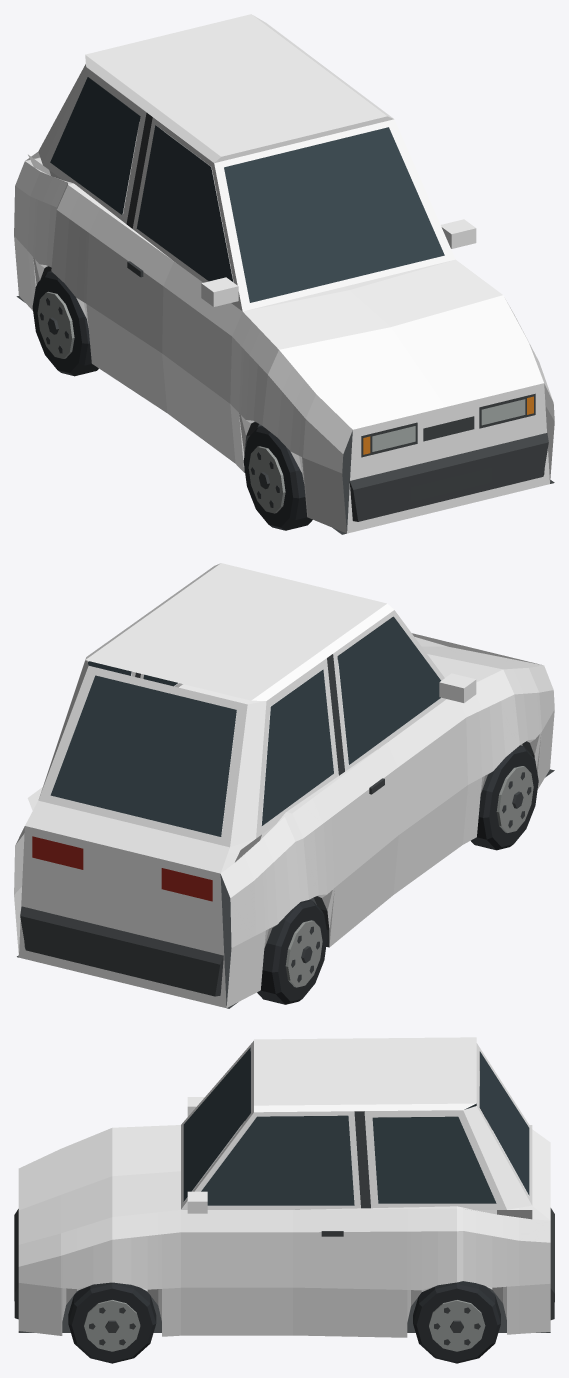
File: hozuki_oboro_s.glb
The picture shows the model from 3 angles, top to bottom: view 1: azimuth 30°, elevation 25°; view 2: azimuth 150°, elevation 25°; view 3: azimuth 270°, elevation 25°; orthographic projection. The views are drawn at different scales.
Visible parts, largest first — view 1: hozuki_oboro_s; view 2: hozuki_oboro_s; view 3: hozuki_oboro_s.
Boxes of the visible parts, left/top/right/bottom form: hozuki_oboro_s: left=14, top=14, right=554, bottom=534; hozuki_oboro_s: left=14, top=563, right=554, bottom=1008; hozuki_oboro_s: left=14, top=1037, right=554, bottom=1363.
Size of the model in its own units: 1.48 by 1.62 by 3.23.
Materials: 8 (1 with a texture image).
